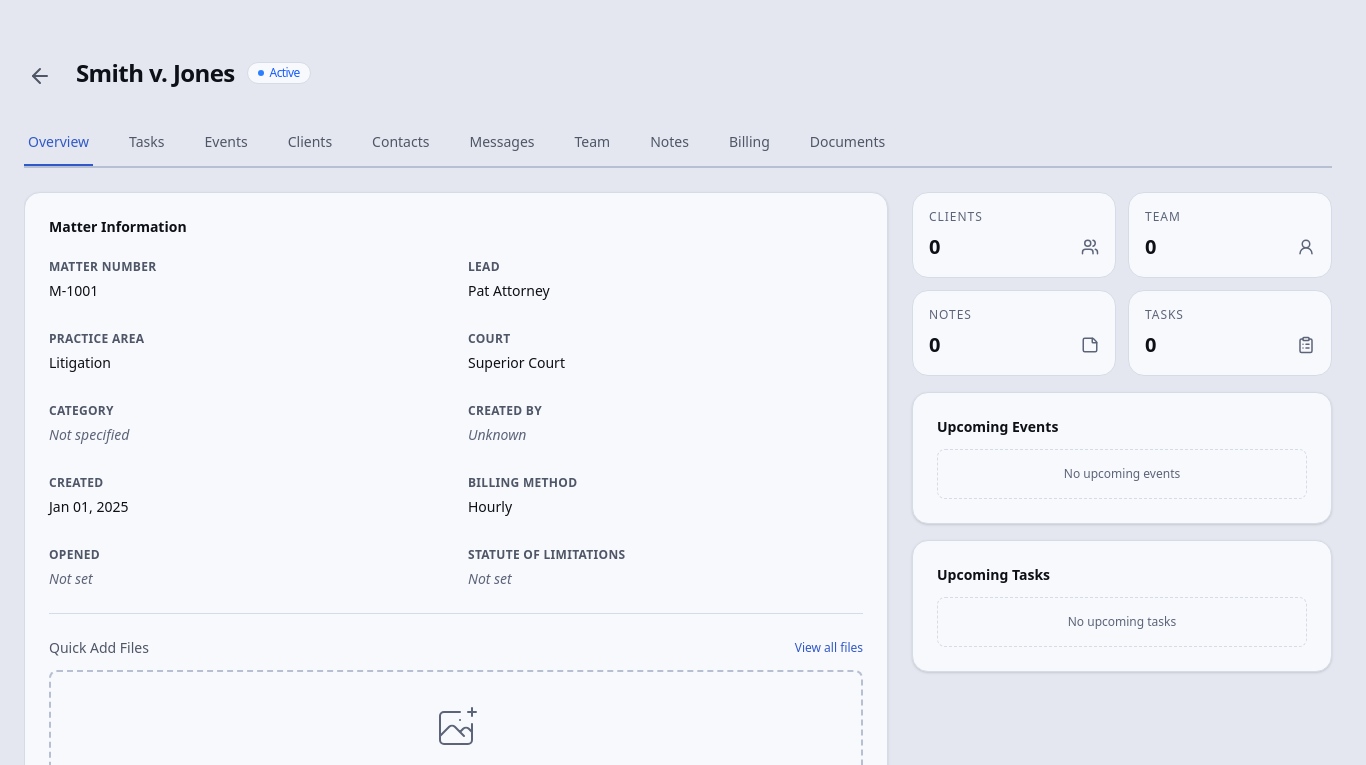
Scenario: the Billing and Time Tracking tabs without billing read permissions › shows the Billing tab to a member who can only view invoices, and reads no time entries
Expected: the heading "Smith v. Jones Active" is shown, left=76, top=56, right=311, bottom=89
Click the button "Billing" at (749,143), box left=725, top=120, right=774, bottom=166
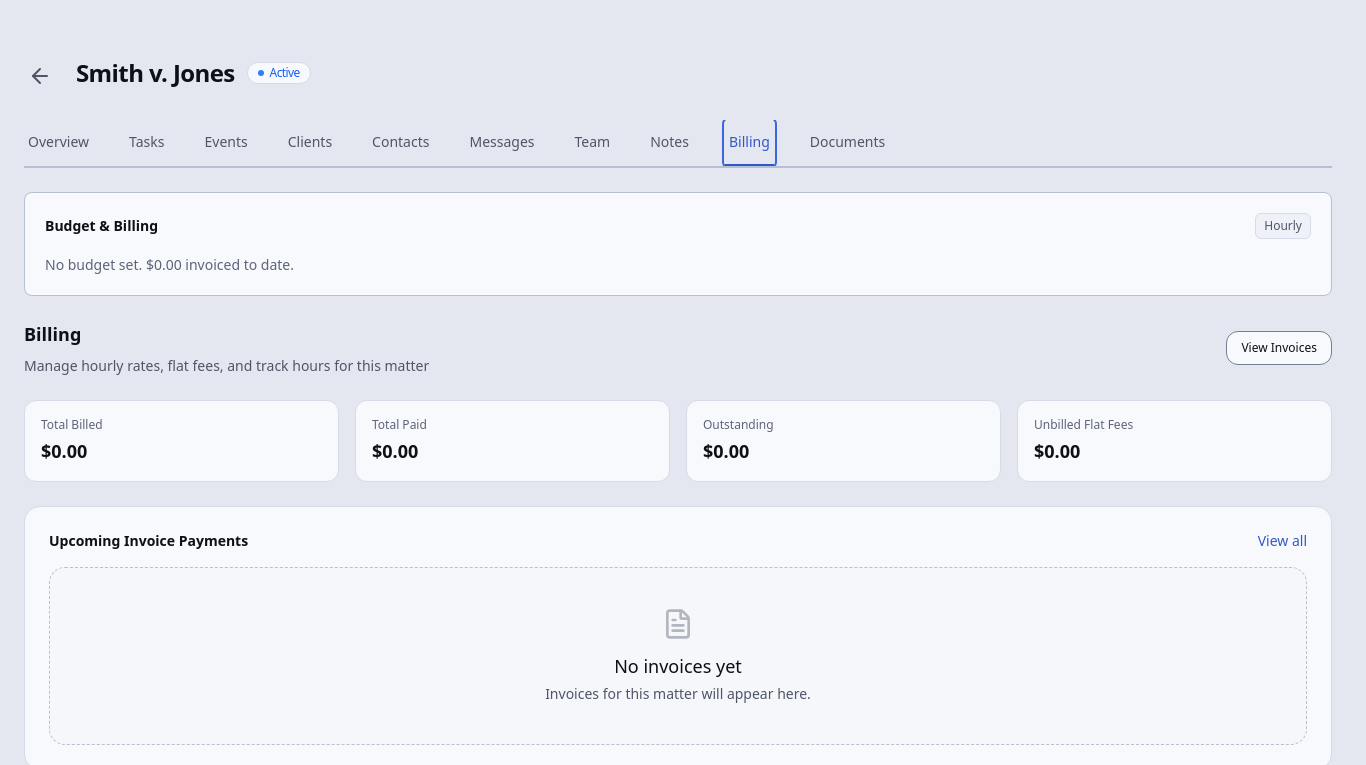
Expected: the heading "Upcoming Invoice Payments" is shown, left=49, top=531, right=248, bottom=551
